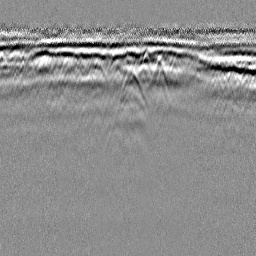cavity: (117, 64, 149, 113)
